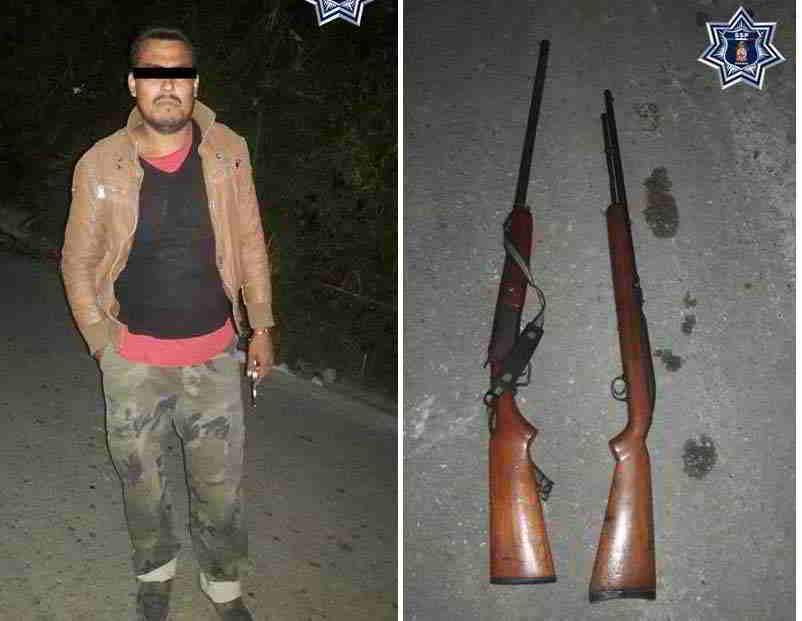larga: (482, 36, 560, 587), (586, 85, 660, 605)
